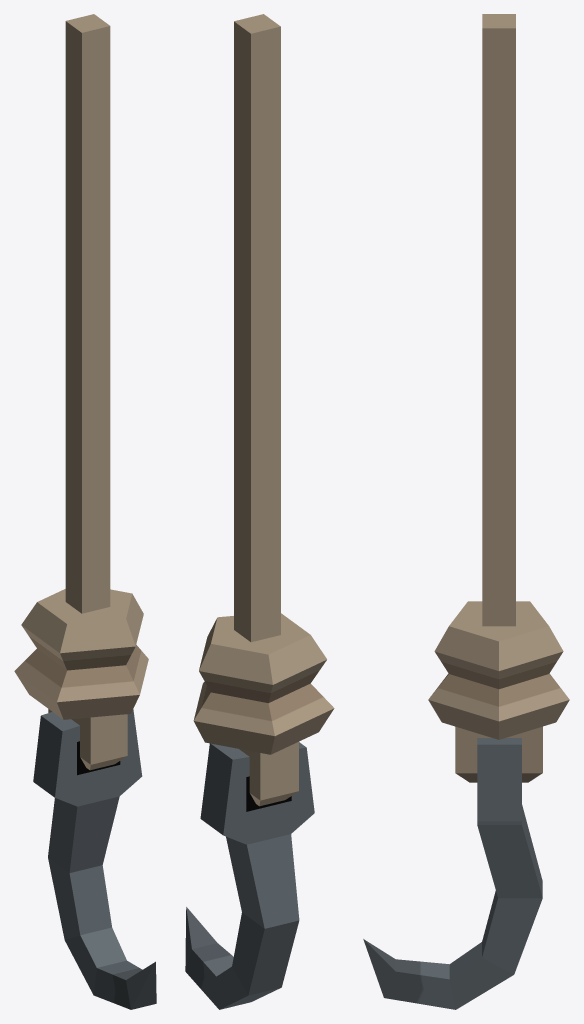
The model's file is SM_Prop_Fish_Hook_01.fbx.
The picture shows the model from 3 angles, left to right: view 1: azimuth 30°, elevation 25°; view 2: azimuth 210°, elevation 25°; view 3: azimuth 270°, elevation 25°; orthographic projection. The views are drawn at different scales.
Parts seen in each view (by area): view 1: SM_Prop_Fish_Hook_01; view 2: SM_Prop_Fish_Hook_01; view 3: SM_Prop_Fish_Hook_01.
Boxes of the visible parts, bbox=[...] form: SM_Prop_Fish_Hook_01: bbox=[14, 14, 156, 1009]; SM_Prop_Fish_Hook_01: bbox=[185, 14, 334, 1009]; SM_Prop_Fish_Hook_01: bbox=[363, 14, 569, 1009].
Size of the model in its own units: 8.92 by 71.67 by 13.69.
